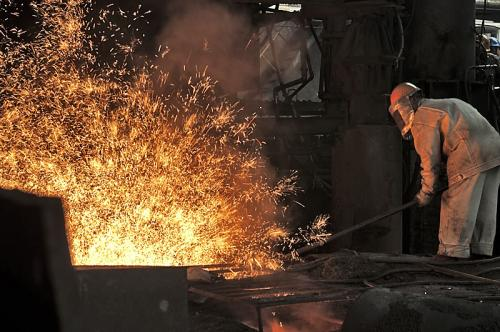gloves: (415, 190, 434, 208)
hard-hat: (389, 82, 422, 114)
person: (388, 80, 500, 262)
ppe-suit: (408, 96, 499, 259)
